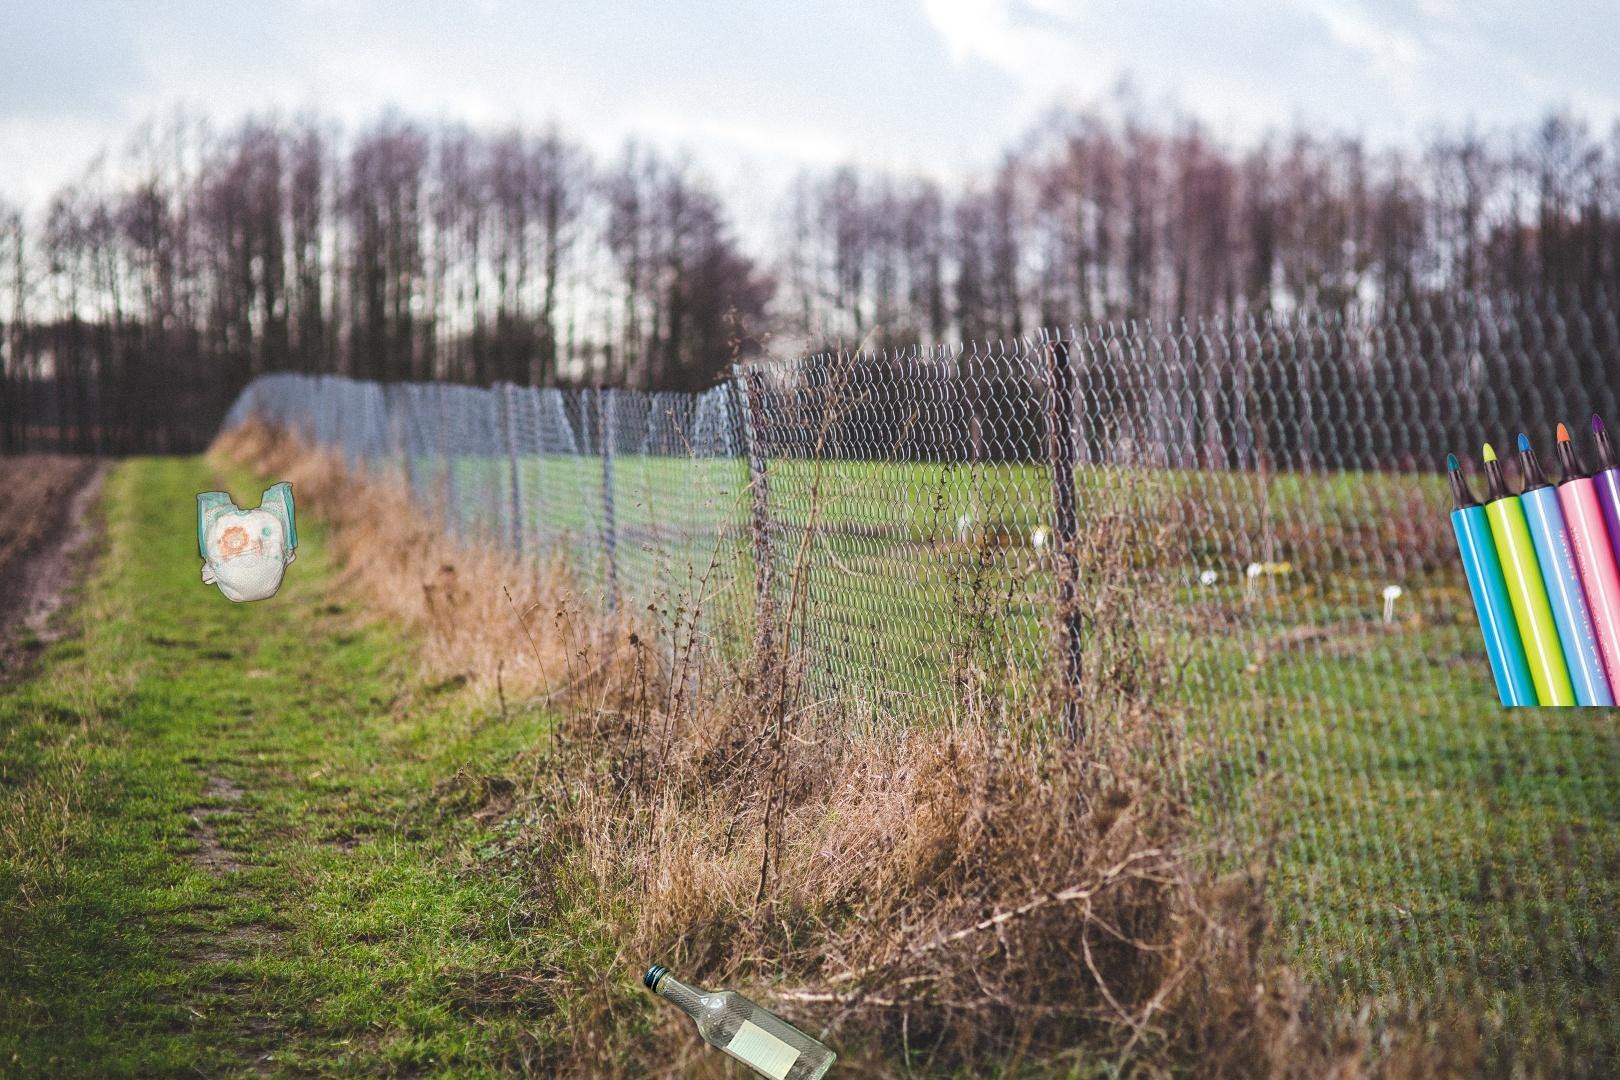glass: (639, 958, 841, 1080)
penholder: (1446, 372, 1620, 706)
trash: (193, 458, 300, 605)
